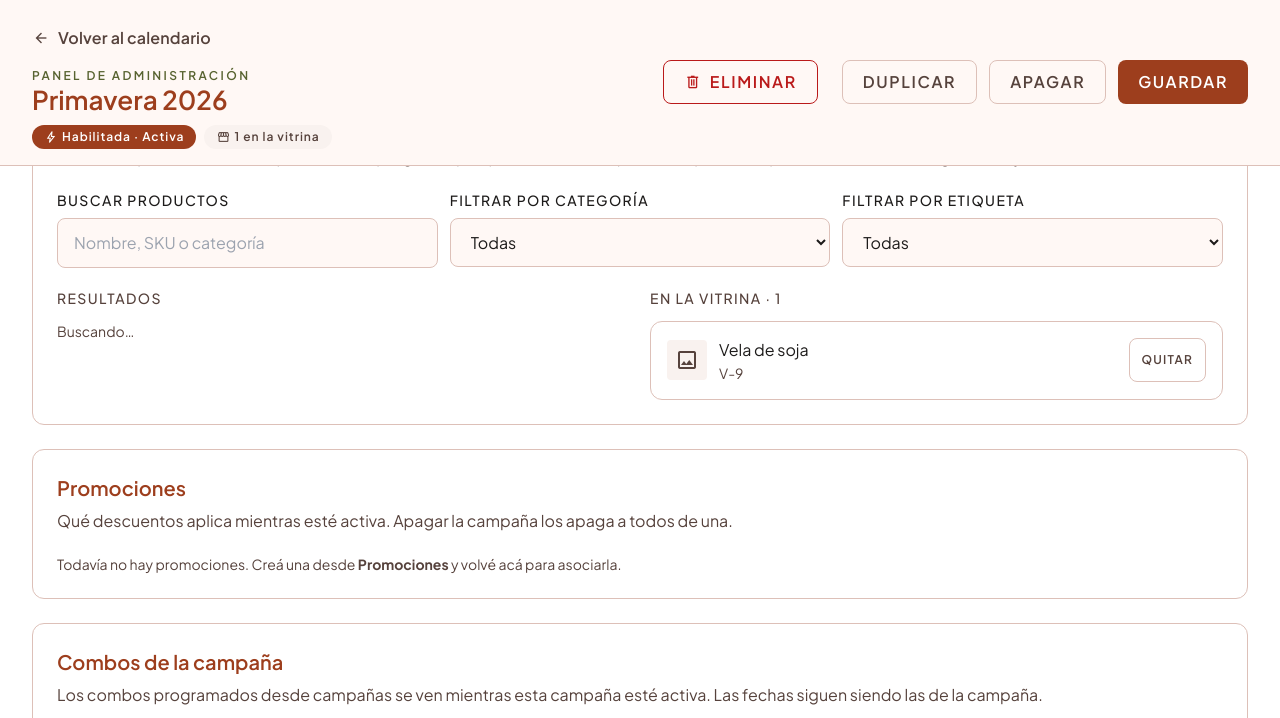
AdminCampaniaEditor — los errores de las secciones que guardan solas › el fallo al guardar la vitrina se ve DENTRO de la sección de productos
(page scrolled)
Click the button named "Quitar Vela de soja": coordinates (1167, 360) left=1128, top=338, right=1206, bottom=382
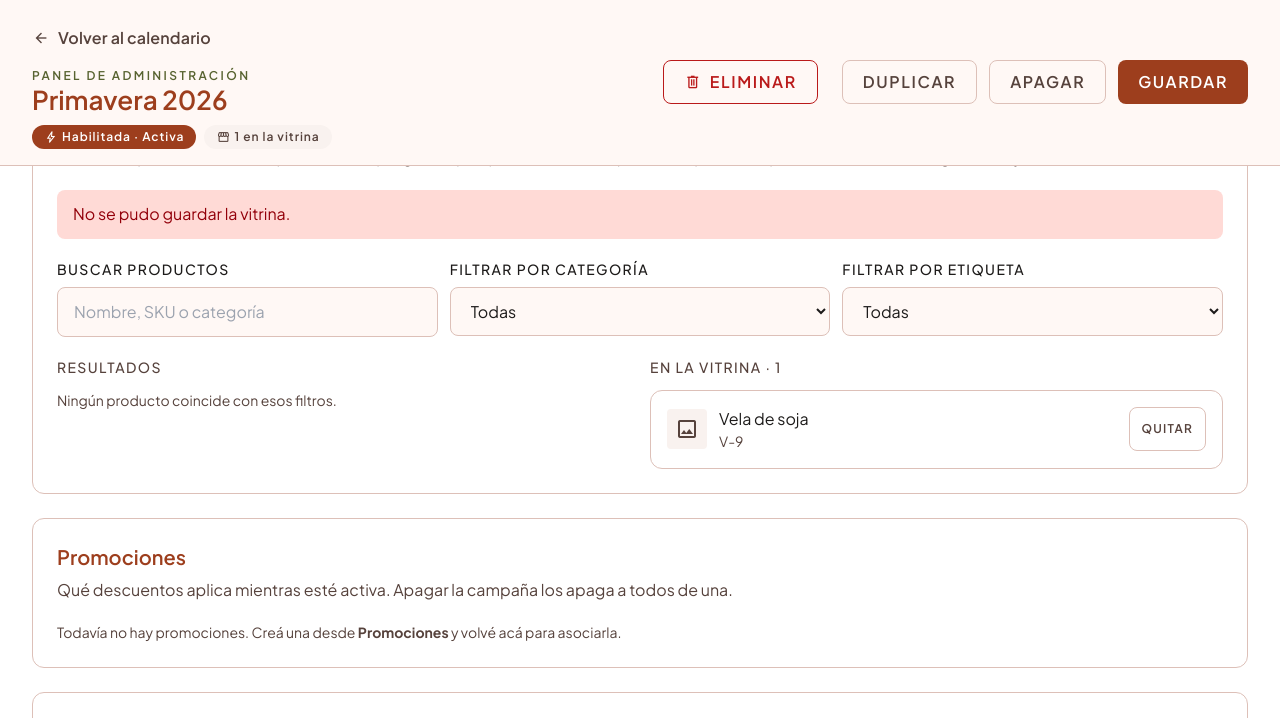
Result: the text "No se pudo guardar la vitrina." is shown at left=57, top=190, right=1223, bottom=239
